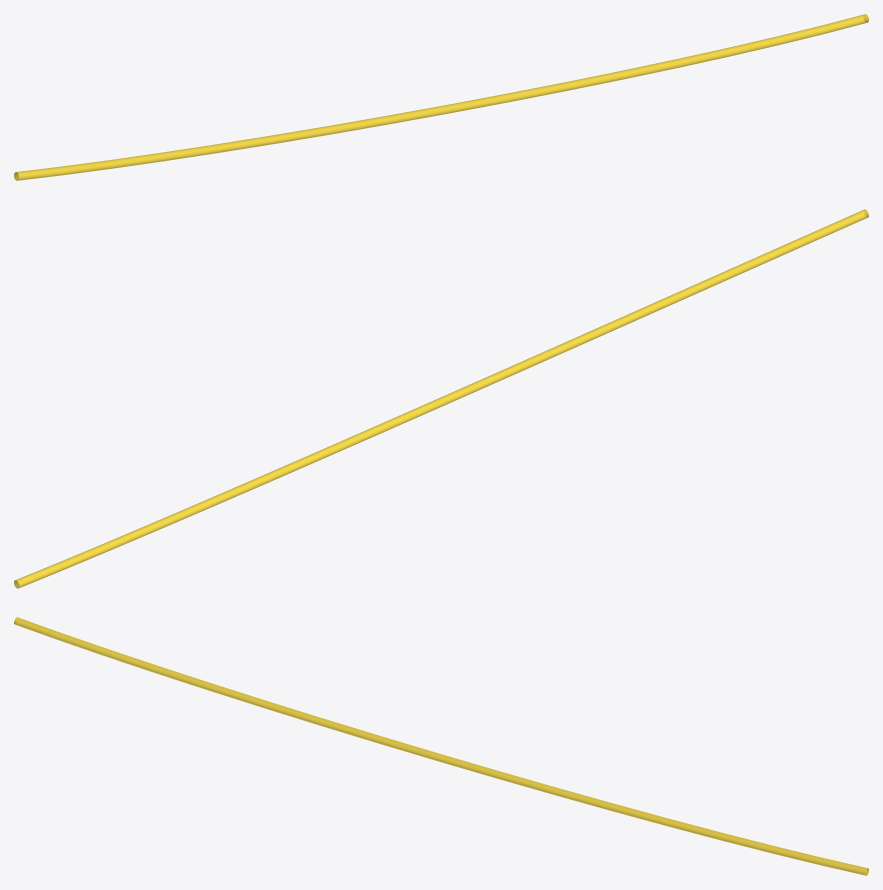
File: Event_17758602_track_53.fbx
3 renders of one model, top to bottom at view 1: azimuth 30°, elevation 25°; view 2: azimuth 210°, elevation 25°; view 3: azimuth 330°, elevation 25°, orthographic. The views are drawn at different scales.
Visible parts, largest first — view 1: Model; view 2: Model; view 3: Model.
Boxes of the visible parts, bbox=[...] form: Model: bbox=[14, 14, 868, 180]; Model: bbox=[14, 209, 868, 588]; Model: bbox=[14, 617, 868, 875].
Bounding box in the file's own units: 4.7 × 0.5659 × 0.5638.
